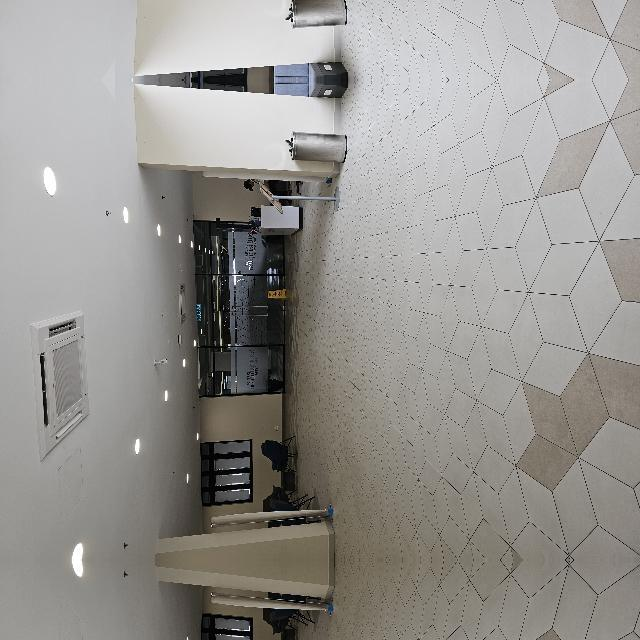obstacle: (347, 334, 381, 426), (398, 361, 430, 431)
